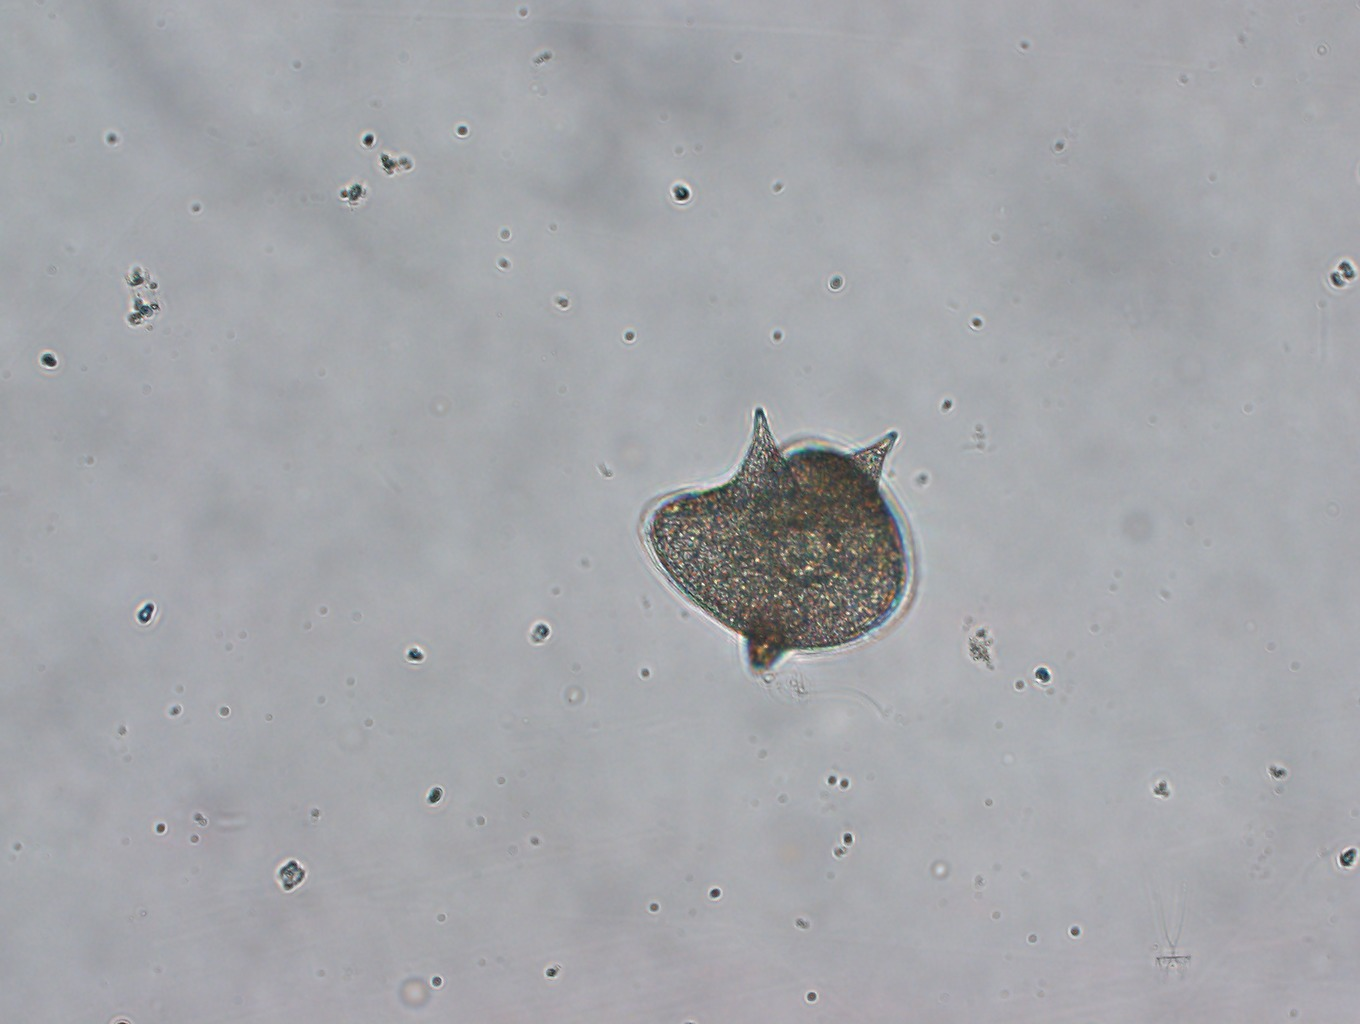protoperidinium: (627, 393, 924, 682)
